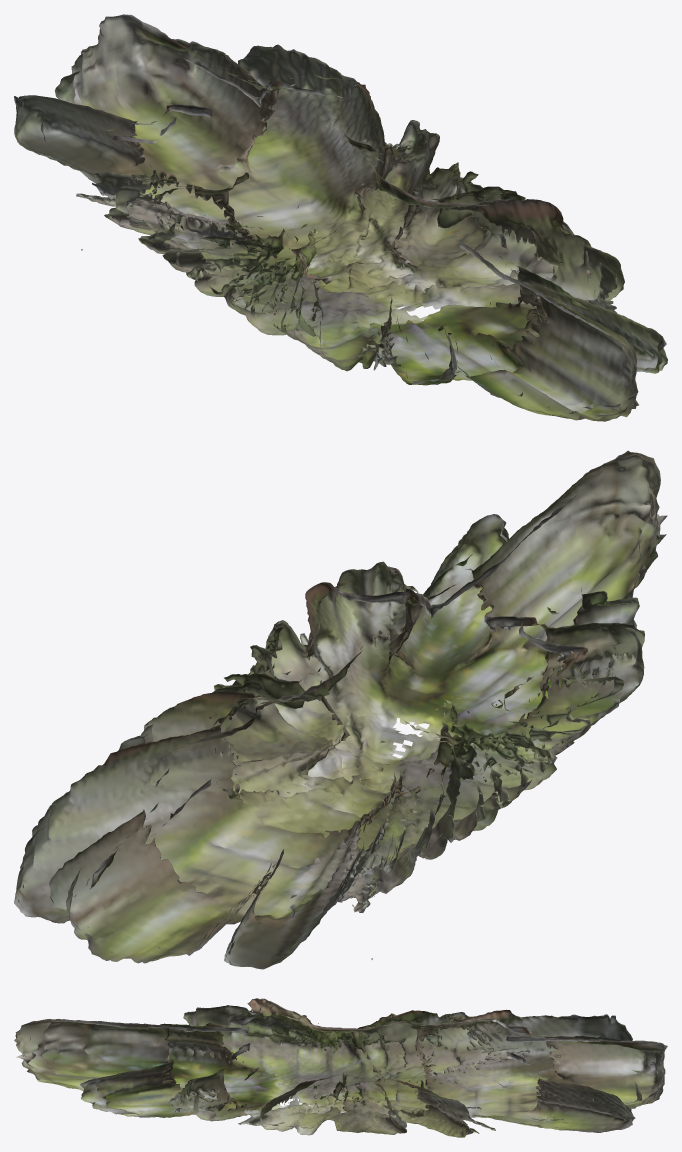
Rendered from world-1769898480025.glb.
3 views of the same model, one above another, from view 1: azimuth 30°, elevation 25°; view 2: azimuth 150°, elevation 25°; view 3: azimuth 270°, elevation 25° (orthographic). The views are drawn at different scales.
Parts seen in each view (by area): view 1: world; view 2: world; view 3: world.
Part boxes in pixels (left/top/right/bottom): world: left=14, top=14, right=667, bottom=421; world: left=14, top=450, right=667, bottom=969; world: left=14, top=998, right=667, bottom=1137.
Bounding box in the file's own units: 5.41 × 2.66 × 15.61.
